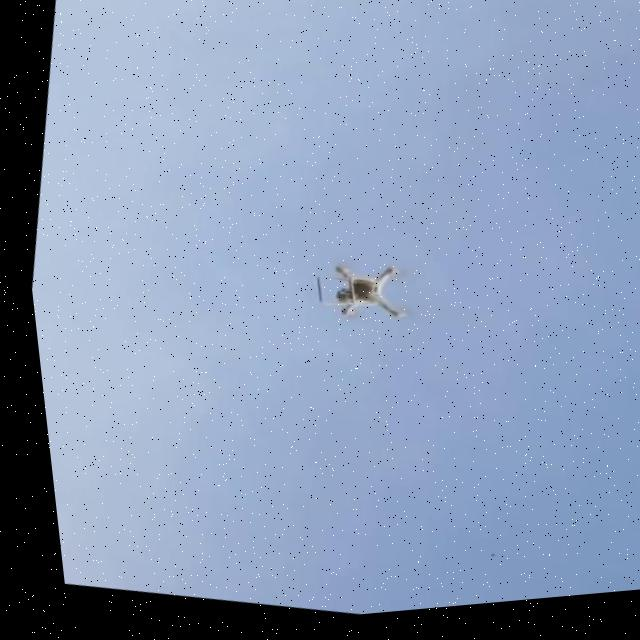drones: (256, 234, 445, 367)
